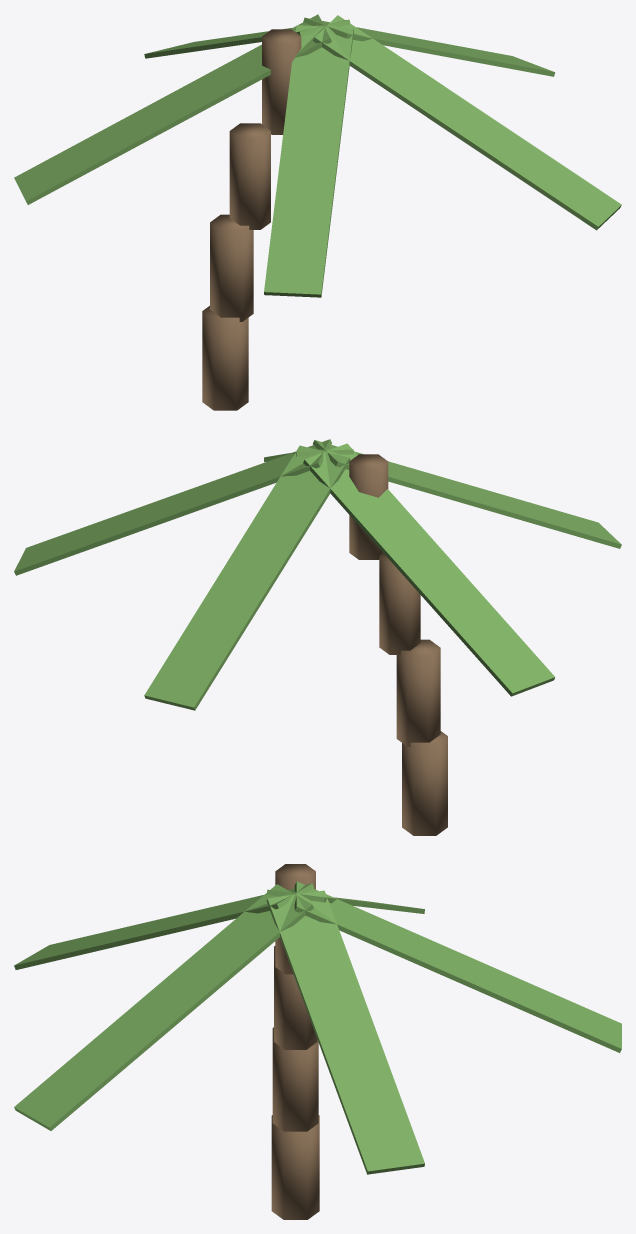
The model's file is tree_palm_lod.glb.
3 views of the same model, one above another, from view 1: azimuth 30°, elevation 25°; view 2: azimuth 150°, elevation 25°; view 3: azimuth 270°, elevation 25° (orthographic). The views are drawn at different scales.
Parts seen in each view (by area): view 1: Tree.007; view 2: Tree.007; view 3: Tree.007.
Part boxes in pixels (x1,y1,x2,y2): Tree.007: (14,14,621,410); Tree.007: (14,439,621,835); Tree.007: (14,864,621,1219).
Size of the model in its own units: 6.37 by 4.05 by 6.06.
